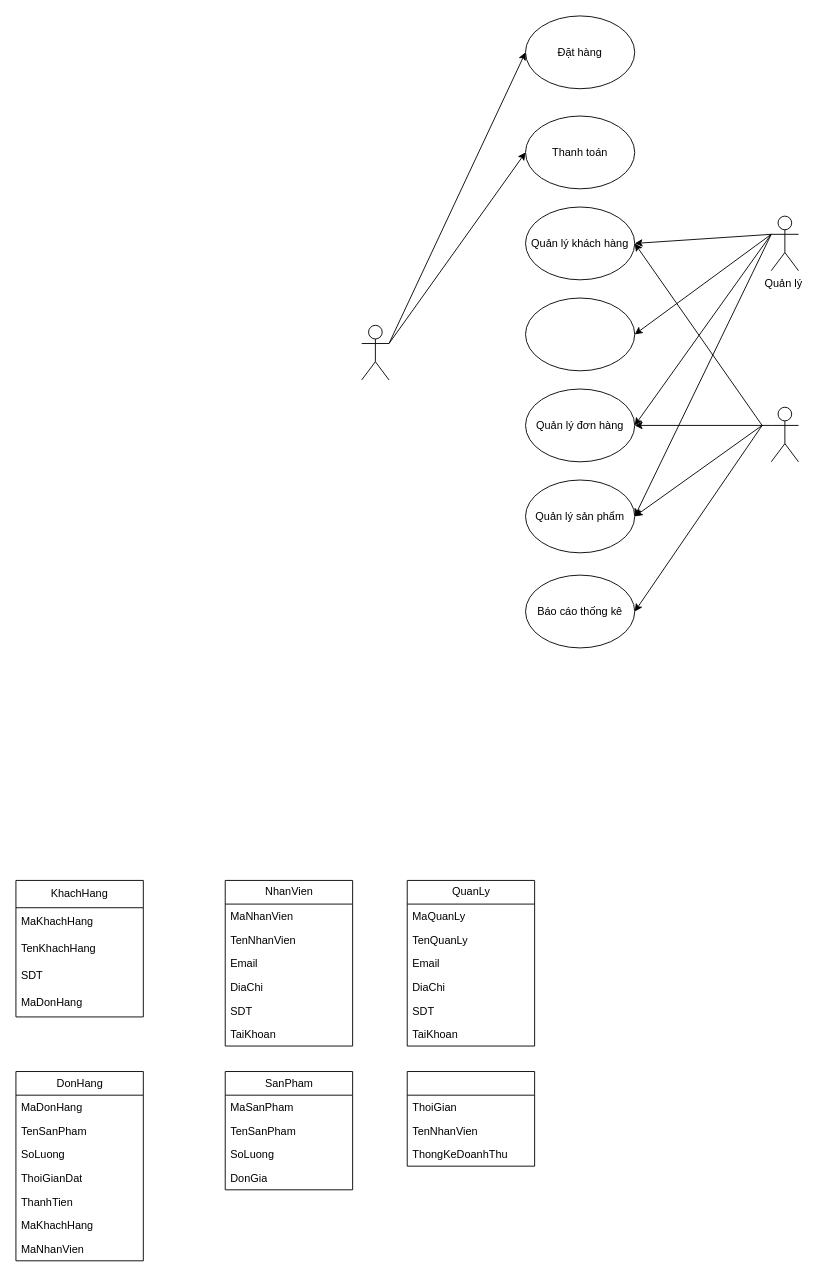
The diagram is 825 pixels wide and 1279 high, and some of its shapes have lost their labels. The shapes that lost their labels are listed below. From the top down, each one's box as (x1, y1, x2, y2) in pixels, then its label:
(361, 324, 389, 380): Khách hàng
(525, 297, 635, 371): Quản lý nhân viên
(770, 406, 799, 462): Nhân viên
(406, 1071, 535, 1166): BaoCao
